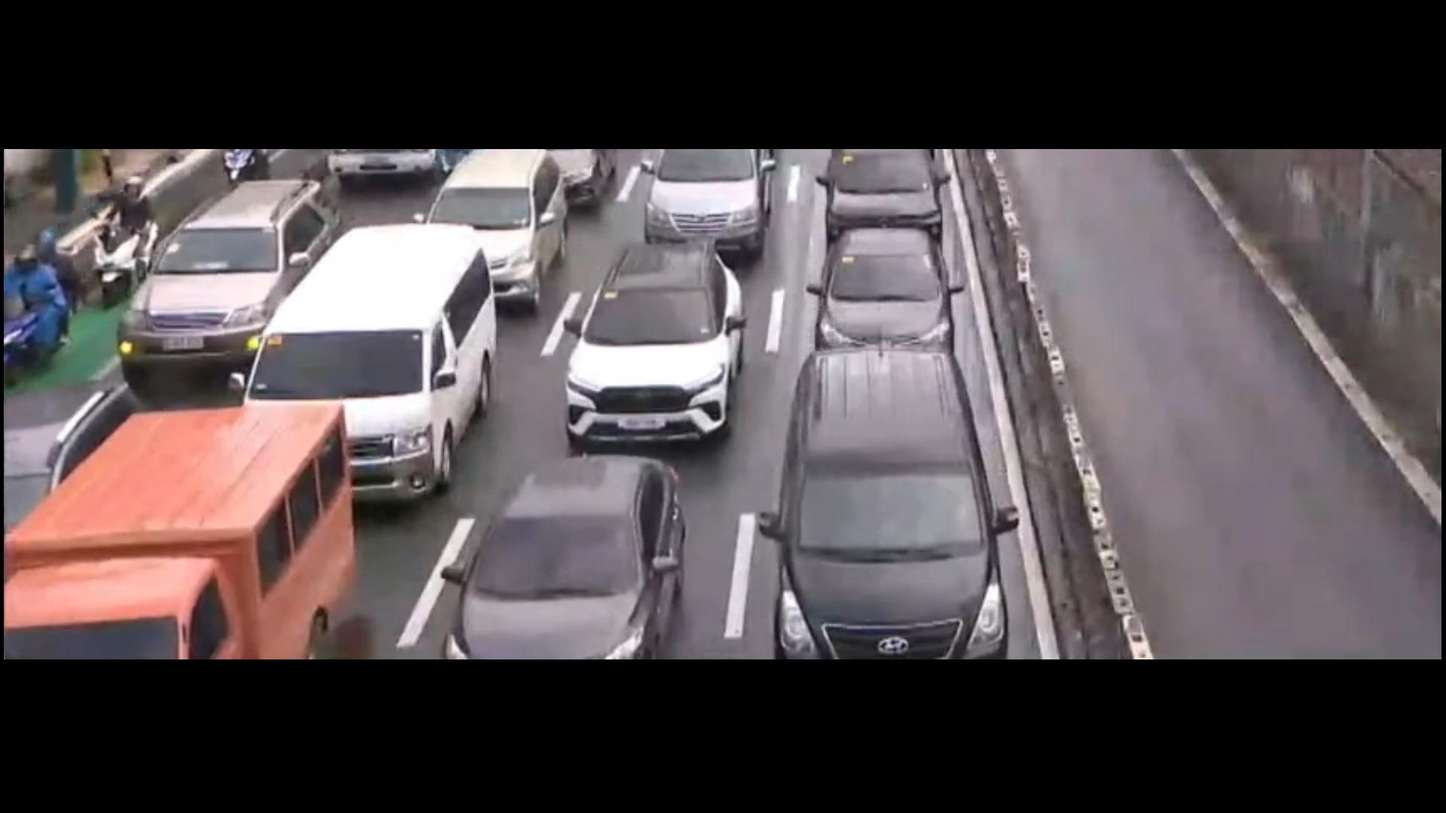Motorcycle: (0, 232, 87, 390), (87, 162, 160, 289), (203, 136, 277, 186)
Multicab: (0, 396, 379, 657)
SUV: (759, 324, 1019, 660), (117, 168, 373, 385), (548, 239, 774, 460), (417, 134, 571, 329)
Sedan: (429, 445, 714, 663), (774, 215, 970, 388)
Van: (215, 230, 522, 519)
